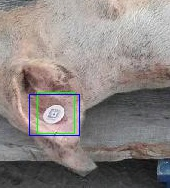text: (37, 92, 74, 133)
